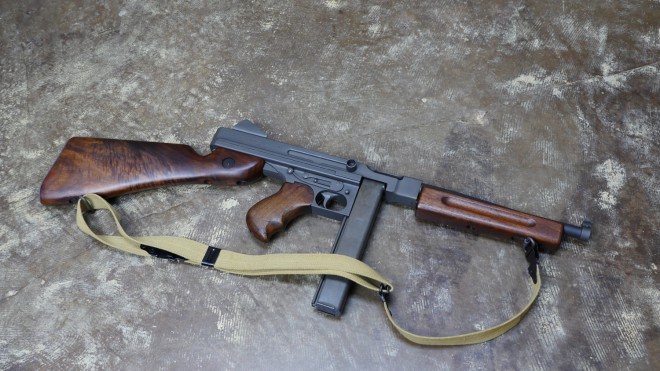Rifle: (38, 117, 595, 320)
